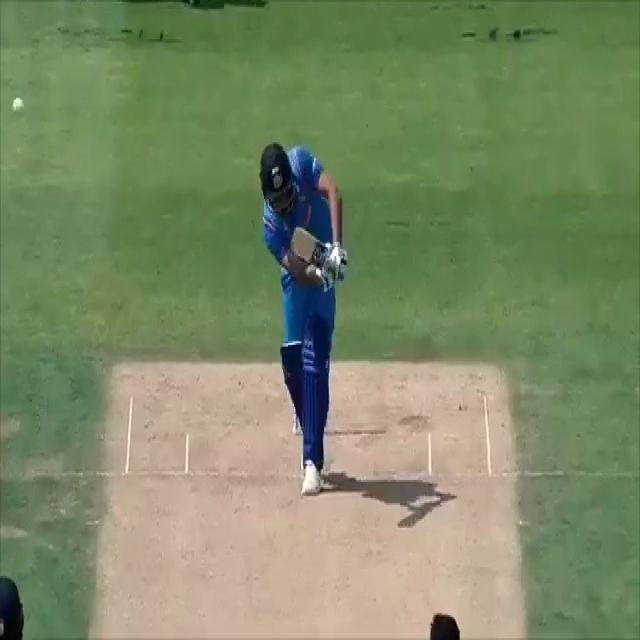ball: (13, 97, 25, 119)
